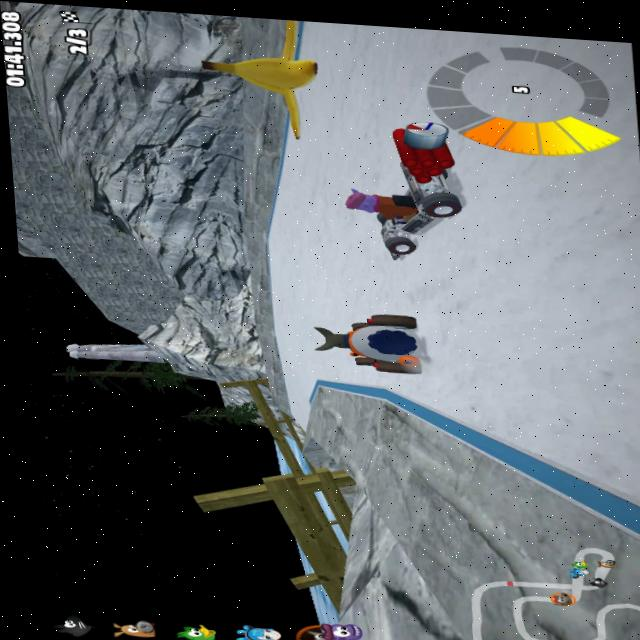enemy_kart: (348, 114, 462, 262)
obstacle: (206, 17, 329, 138)
player_kart: (315, 307, 434, 376)
track: (453, 32, 640, 267), (430, 299, 640, 388), (320, 22, 463, 119), (303, 366, 640, 404), (258, 134, 356, 258), (434, 255, 640, 310), (304, 255, 443, 313), (268, 253, 309, 425), (468, 399, 640, 440), (406, 389, 640, 413), (519, 431, 640, 466), (423, 400, 470, 409)
